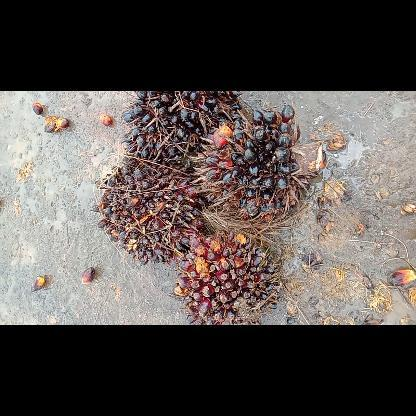TBS abnormal: (186, 101, 328, 225), (120, 91, 244, 169)
TBS masak: (89, 152, 209, 264), (172, 224, 286, 324)
